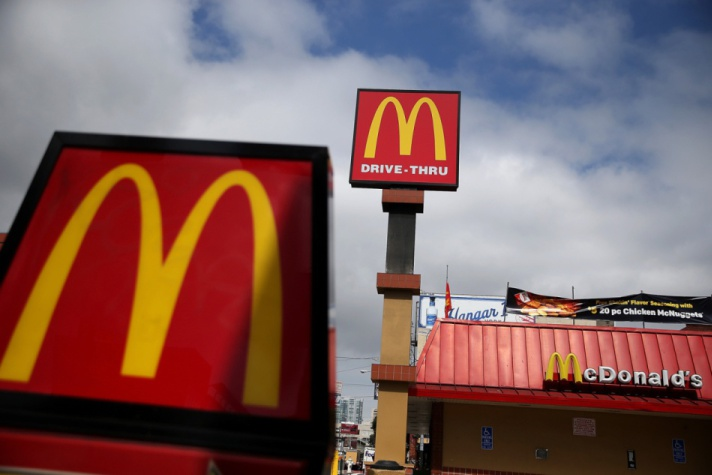mcdonalds: (2, 155, 299, 421), (362, 87, 456, 164)
